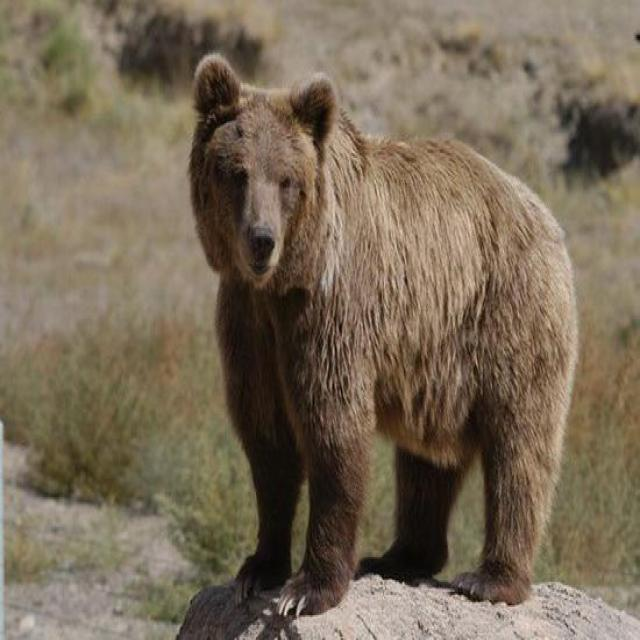Bear: (177, 55, 581, 640)
